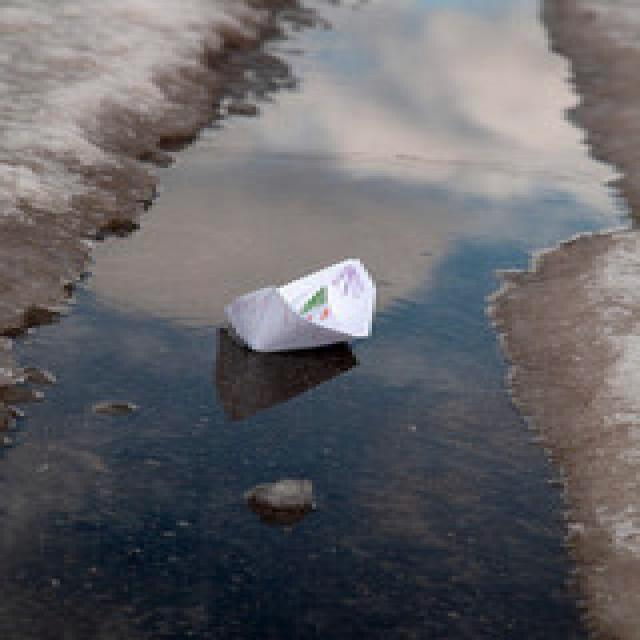Trash: (222, 256, 381, 361)
